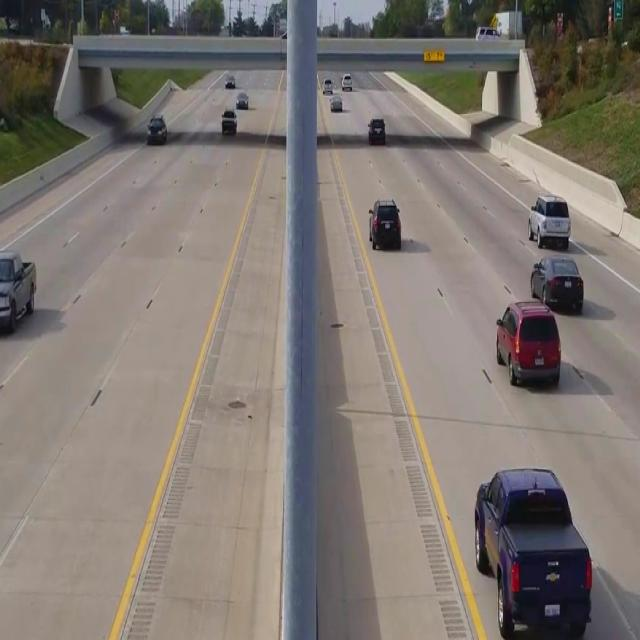car: (473, 465, 592, 640), (495, 298, 560, 387), (530, 255, 584, 314), (0, 250, 36, 335), (528, 194, 570, 250), (368, 198, 401, 250), (147, 114, 166, 145), (367, 117, 385, 145), (222, 108, 236, 134)
